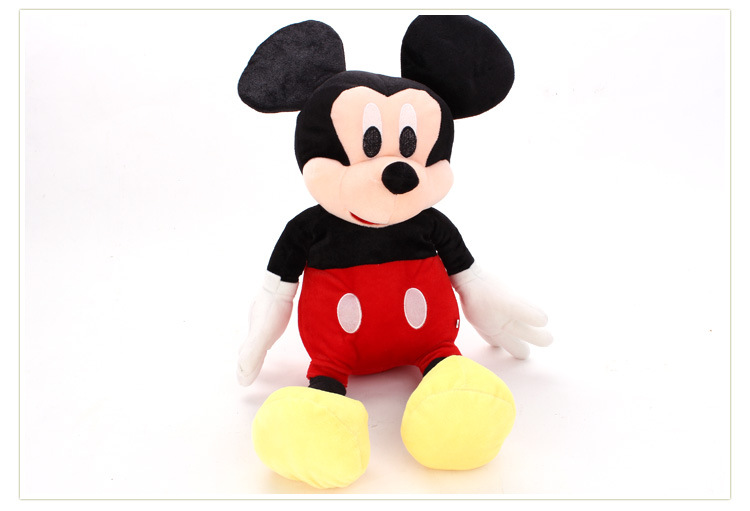Mickey: (235, 12, 517, 228)
